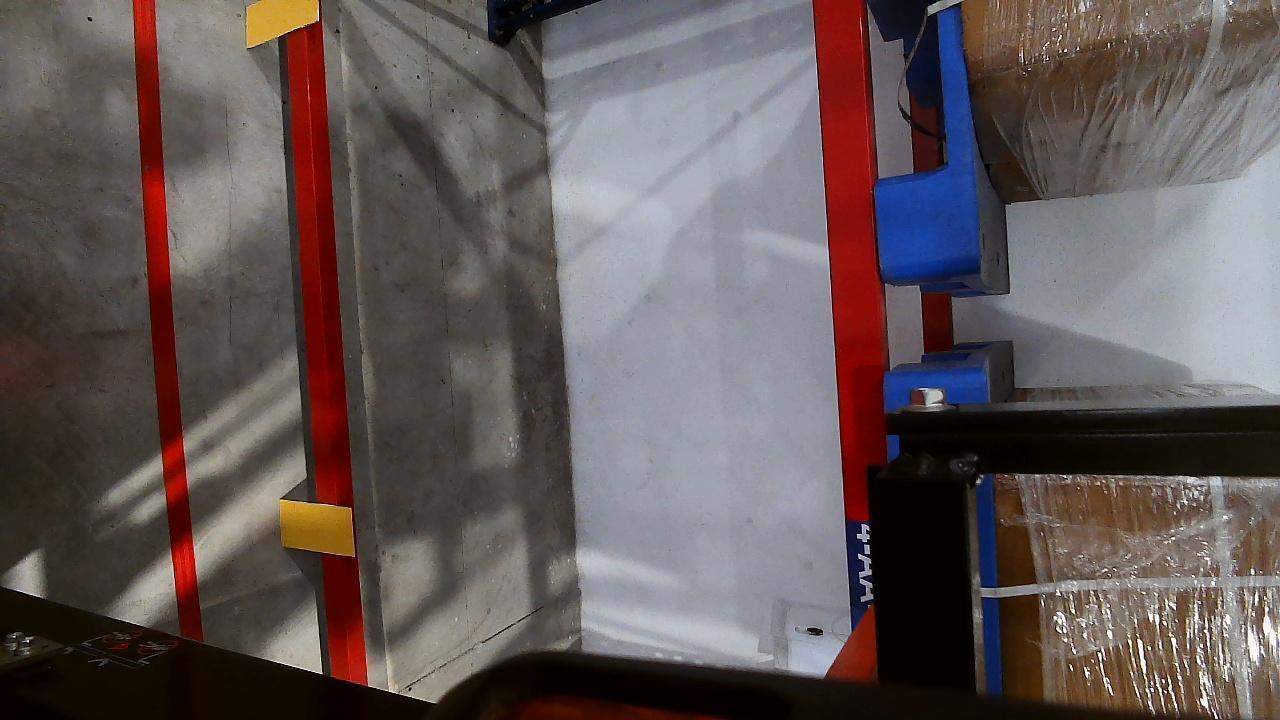red_line: (137, 11, 200, 641)
